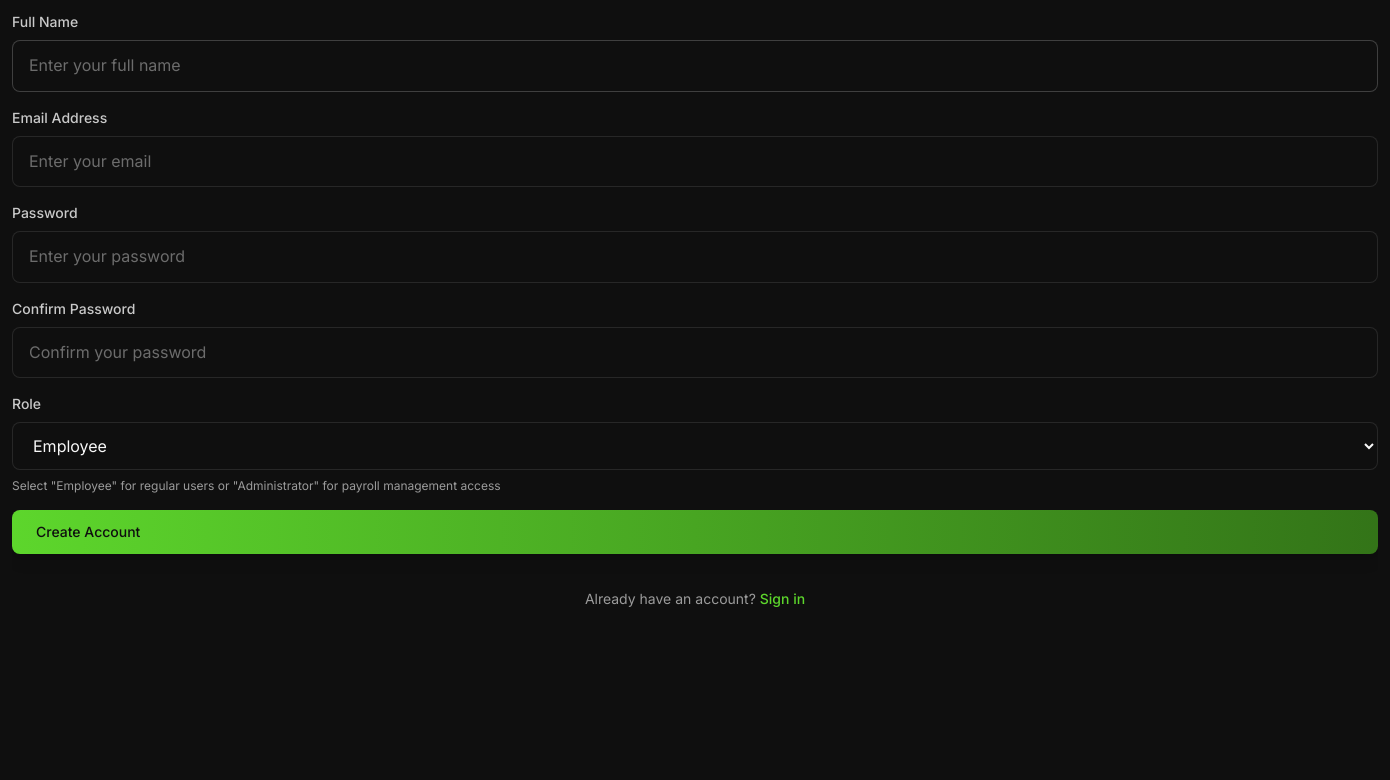
RegisterForm › validates password confirmation match
The image size is (1390, 780).
In the password field labelled "Password": x=695, y=257 [12,231,1378,283], type "password123"
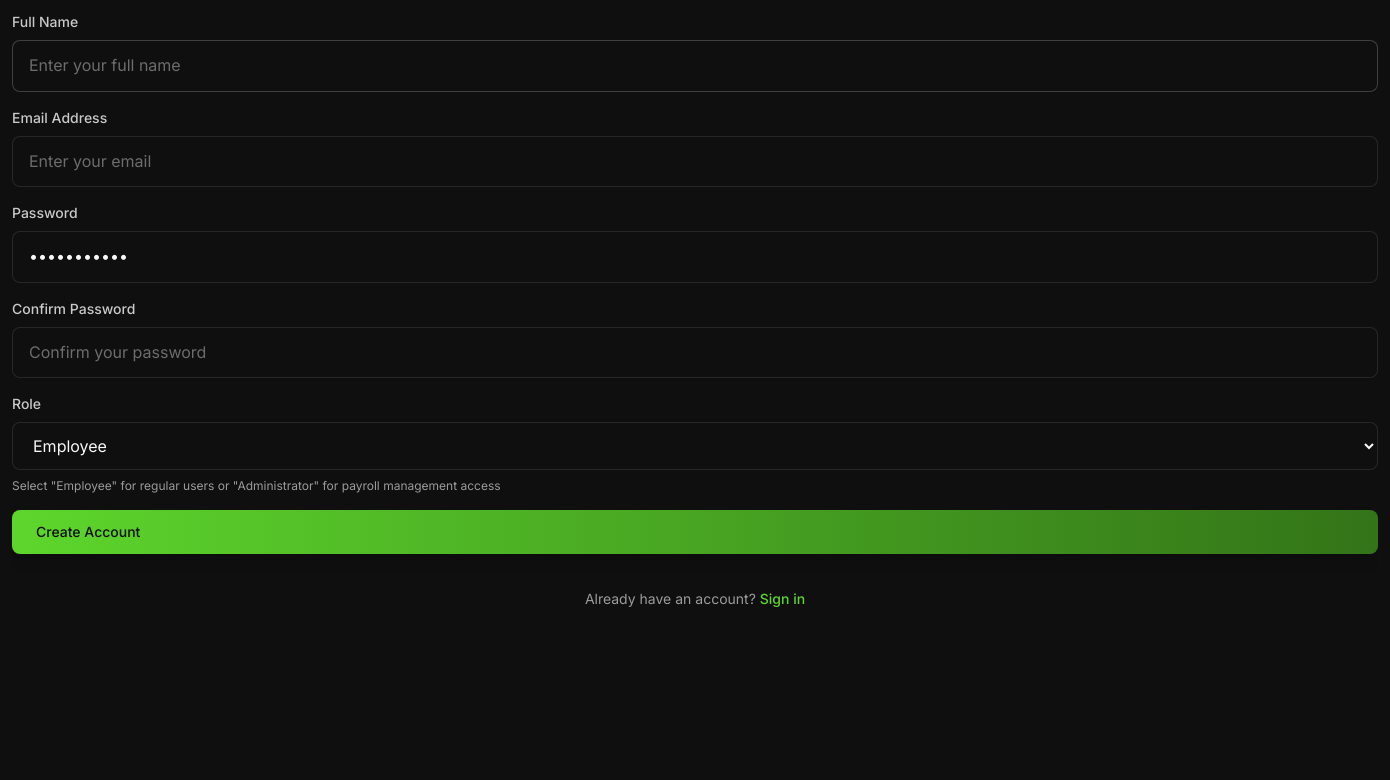
In the password field labelled "Confirm Password": x=695, y=353 [12,327,1378,378], type "different123"
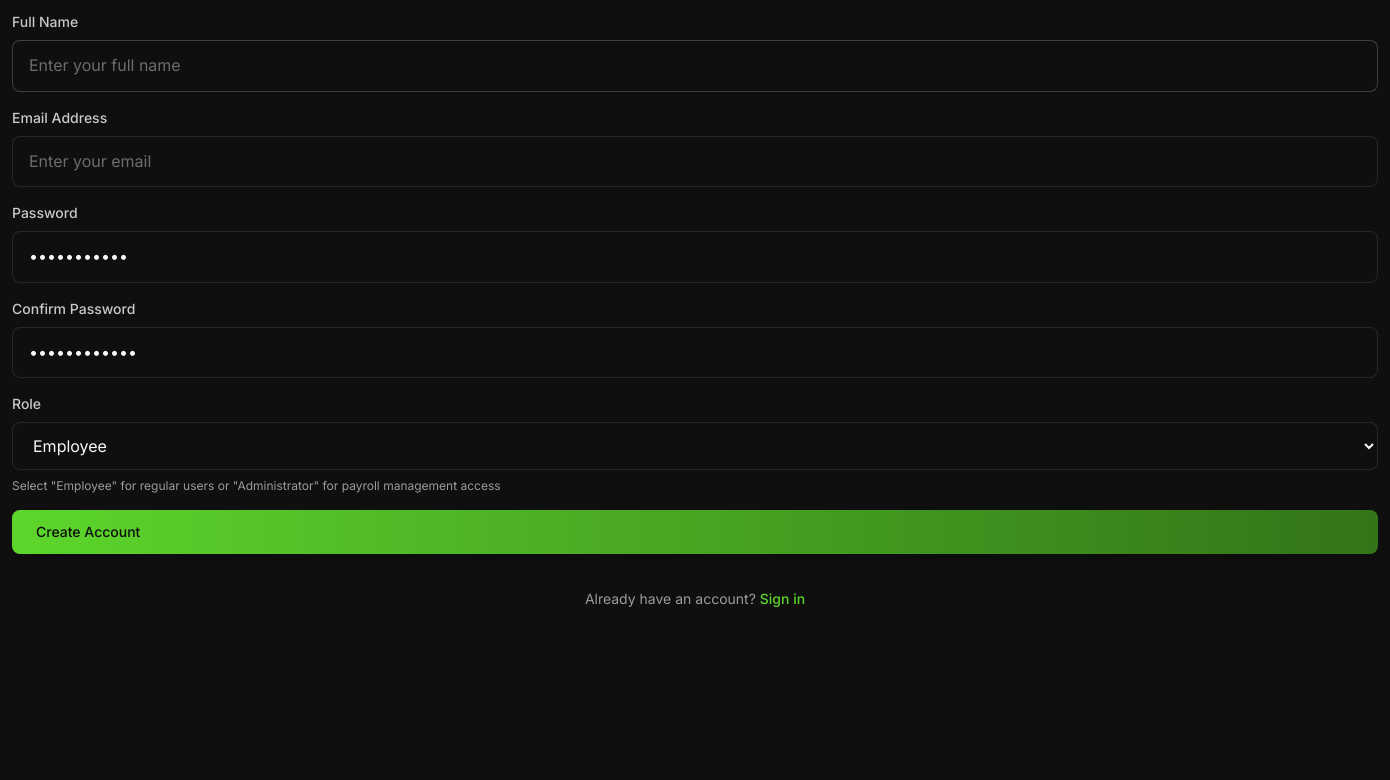
Click the button "Create Account": x=88, y=532 [12,510,1378,554]
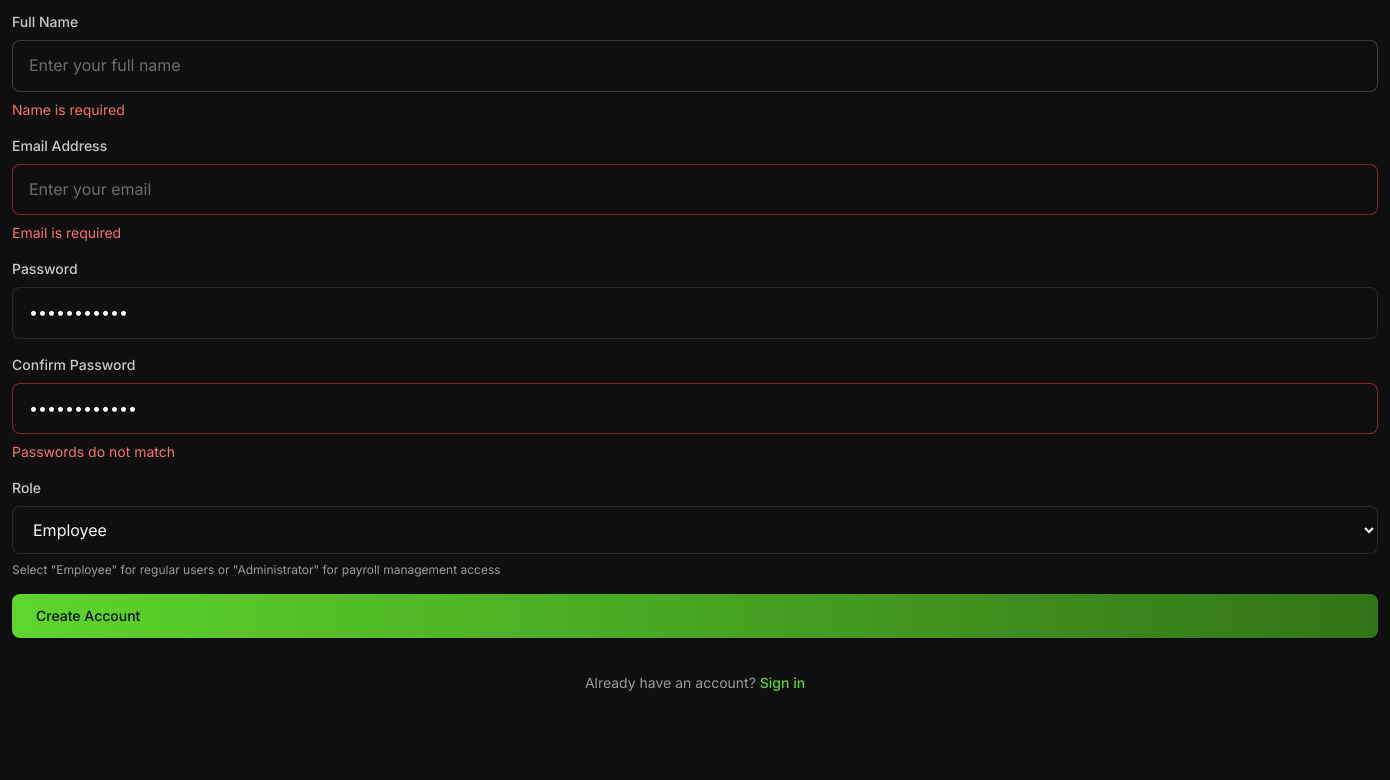
Now the text "Passwords do not match" is shown, box [12,443,175,460]
